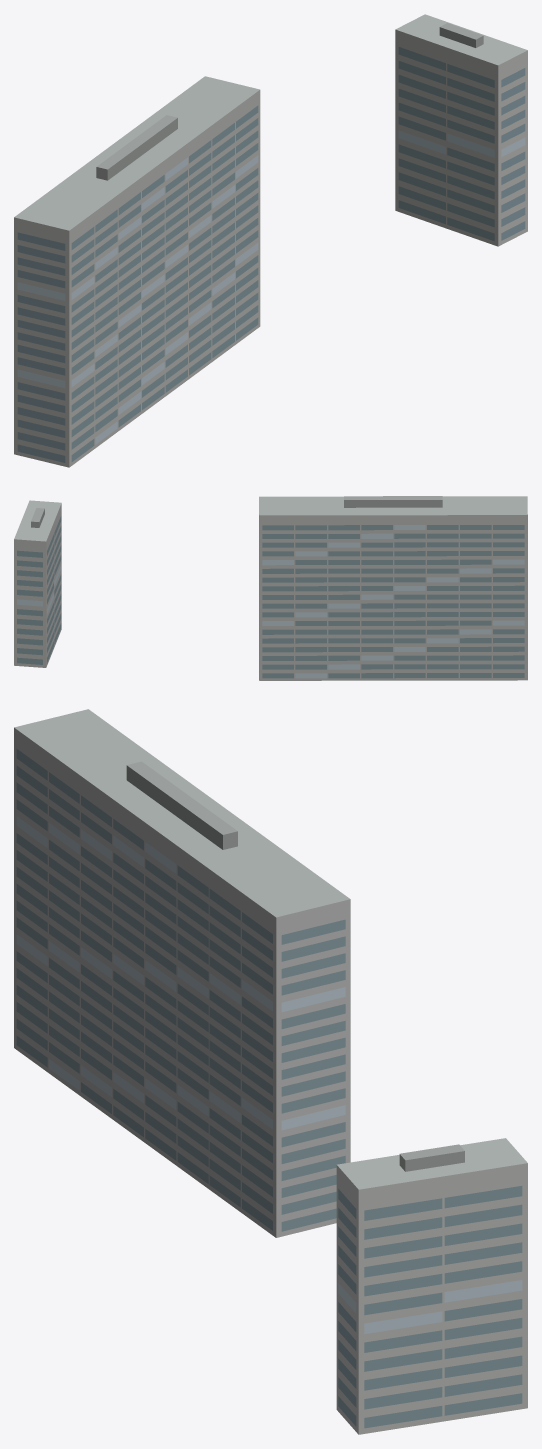
The model's file is apt-a15210101.glb.
3 renders of one model, top to bottom at view 1: azimuth 30°, elevation 25°; view 2: azimuth 150°, elevation 25°; view 3: azimuth 270°, elevation 25°, orthographic. The views are drawn at different scales.
Parts seen in each view (by area): view 1: apt-a15210101; view 2: apt-a15210101; view 3: apt-a15210101.
Part boxes in pixels (left/top/right/bottom): apt-a15210101: left=14, top=14, right=527, bottom=467; apt-a15210101: left=14, top=496, right=527, bottom=680; apt-a15210101: left=14, top=709, right=527, bottom=1434.
Bounding box in the file's own units: 132 × 51 × 70.78.
